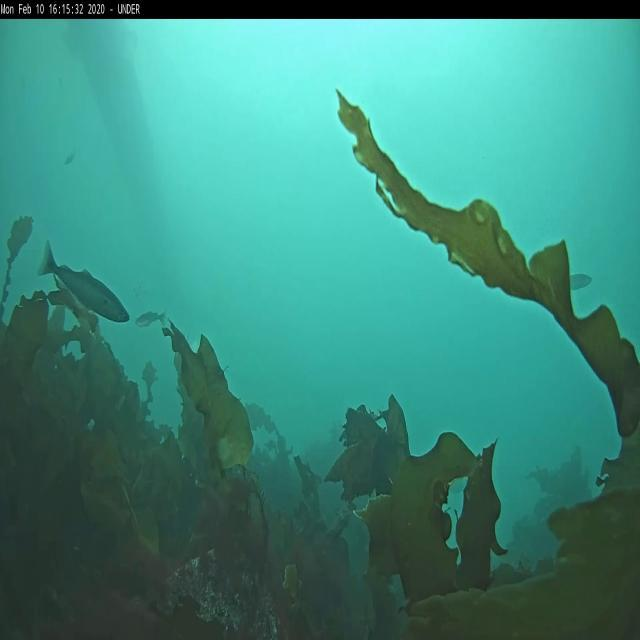fish: (40, 242, 132, 325), (136, 310, 166, 326)
